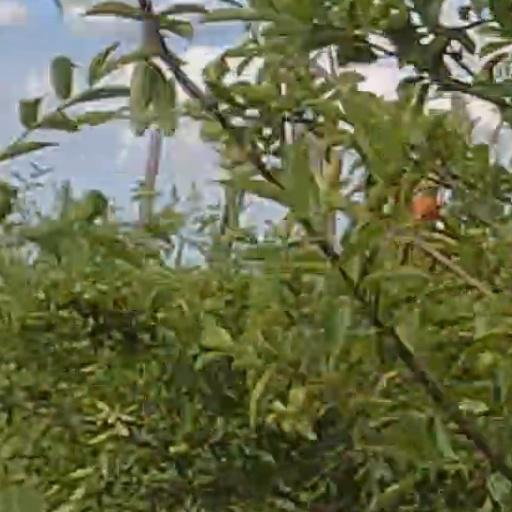acerola: (414, 195, 437, 223)
